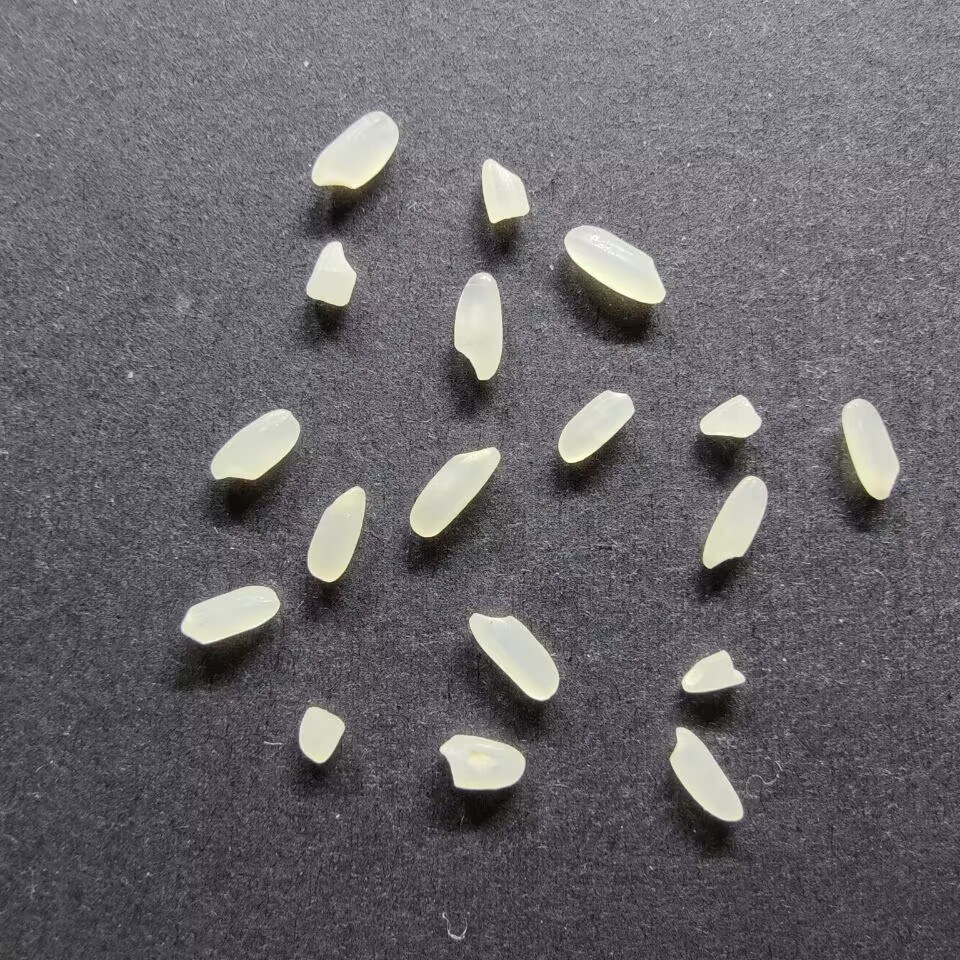broken: (437, 733, 525, 791), (304, 241, 357, 306), (479, 157, 530, 224), (680, 648, 746, 694), (296, 705, 345, 765), (698, 393, 761, 438)
rice: (408, 446, 501, 538), (563, 223, 667, 305), (467, 612, 559, 701), (667, 726, 743, 823), (311, 111, 399, 189), (208, 407, 300, 481), (702, 472, 768, 570), (840, 398, 901, 500), (306, 483, 366, 583), (179, 584, 279, 644), (557, 389, 634, 463), (452, 270, 503, 381)
